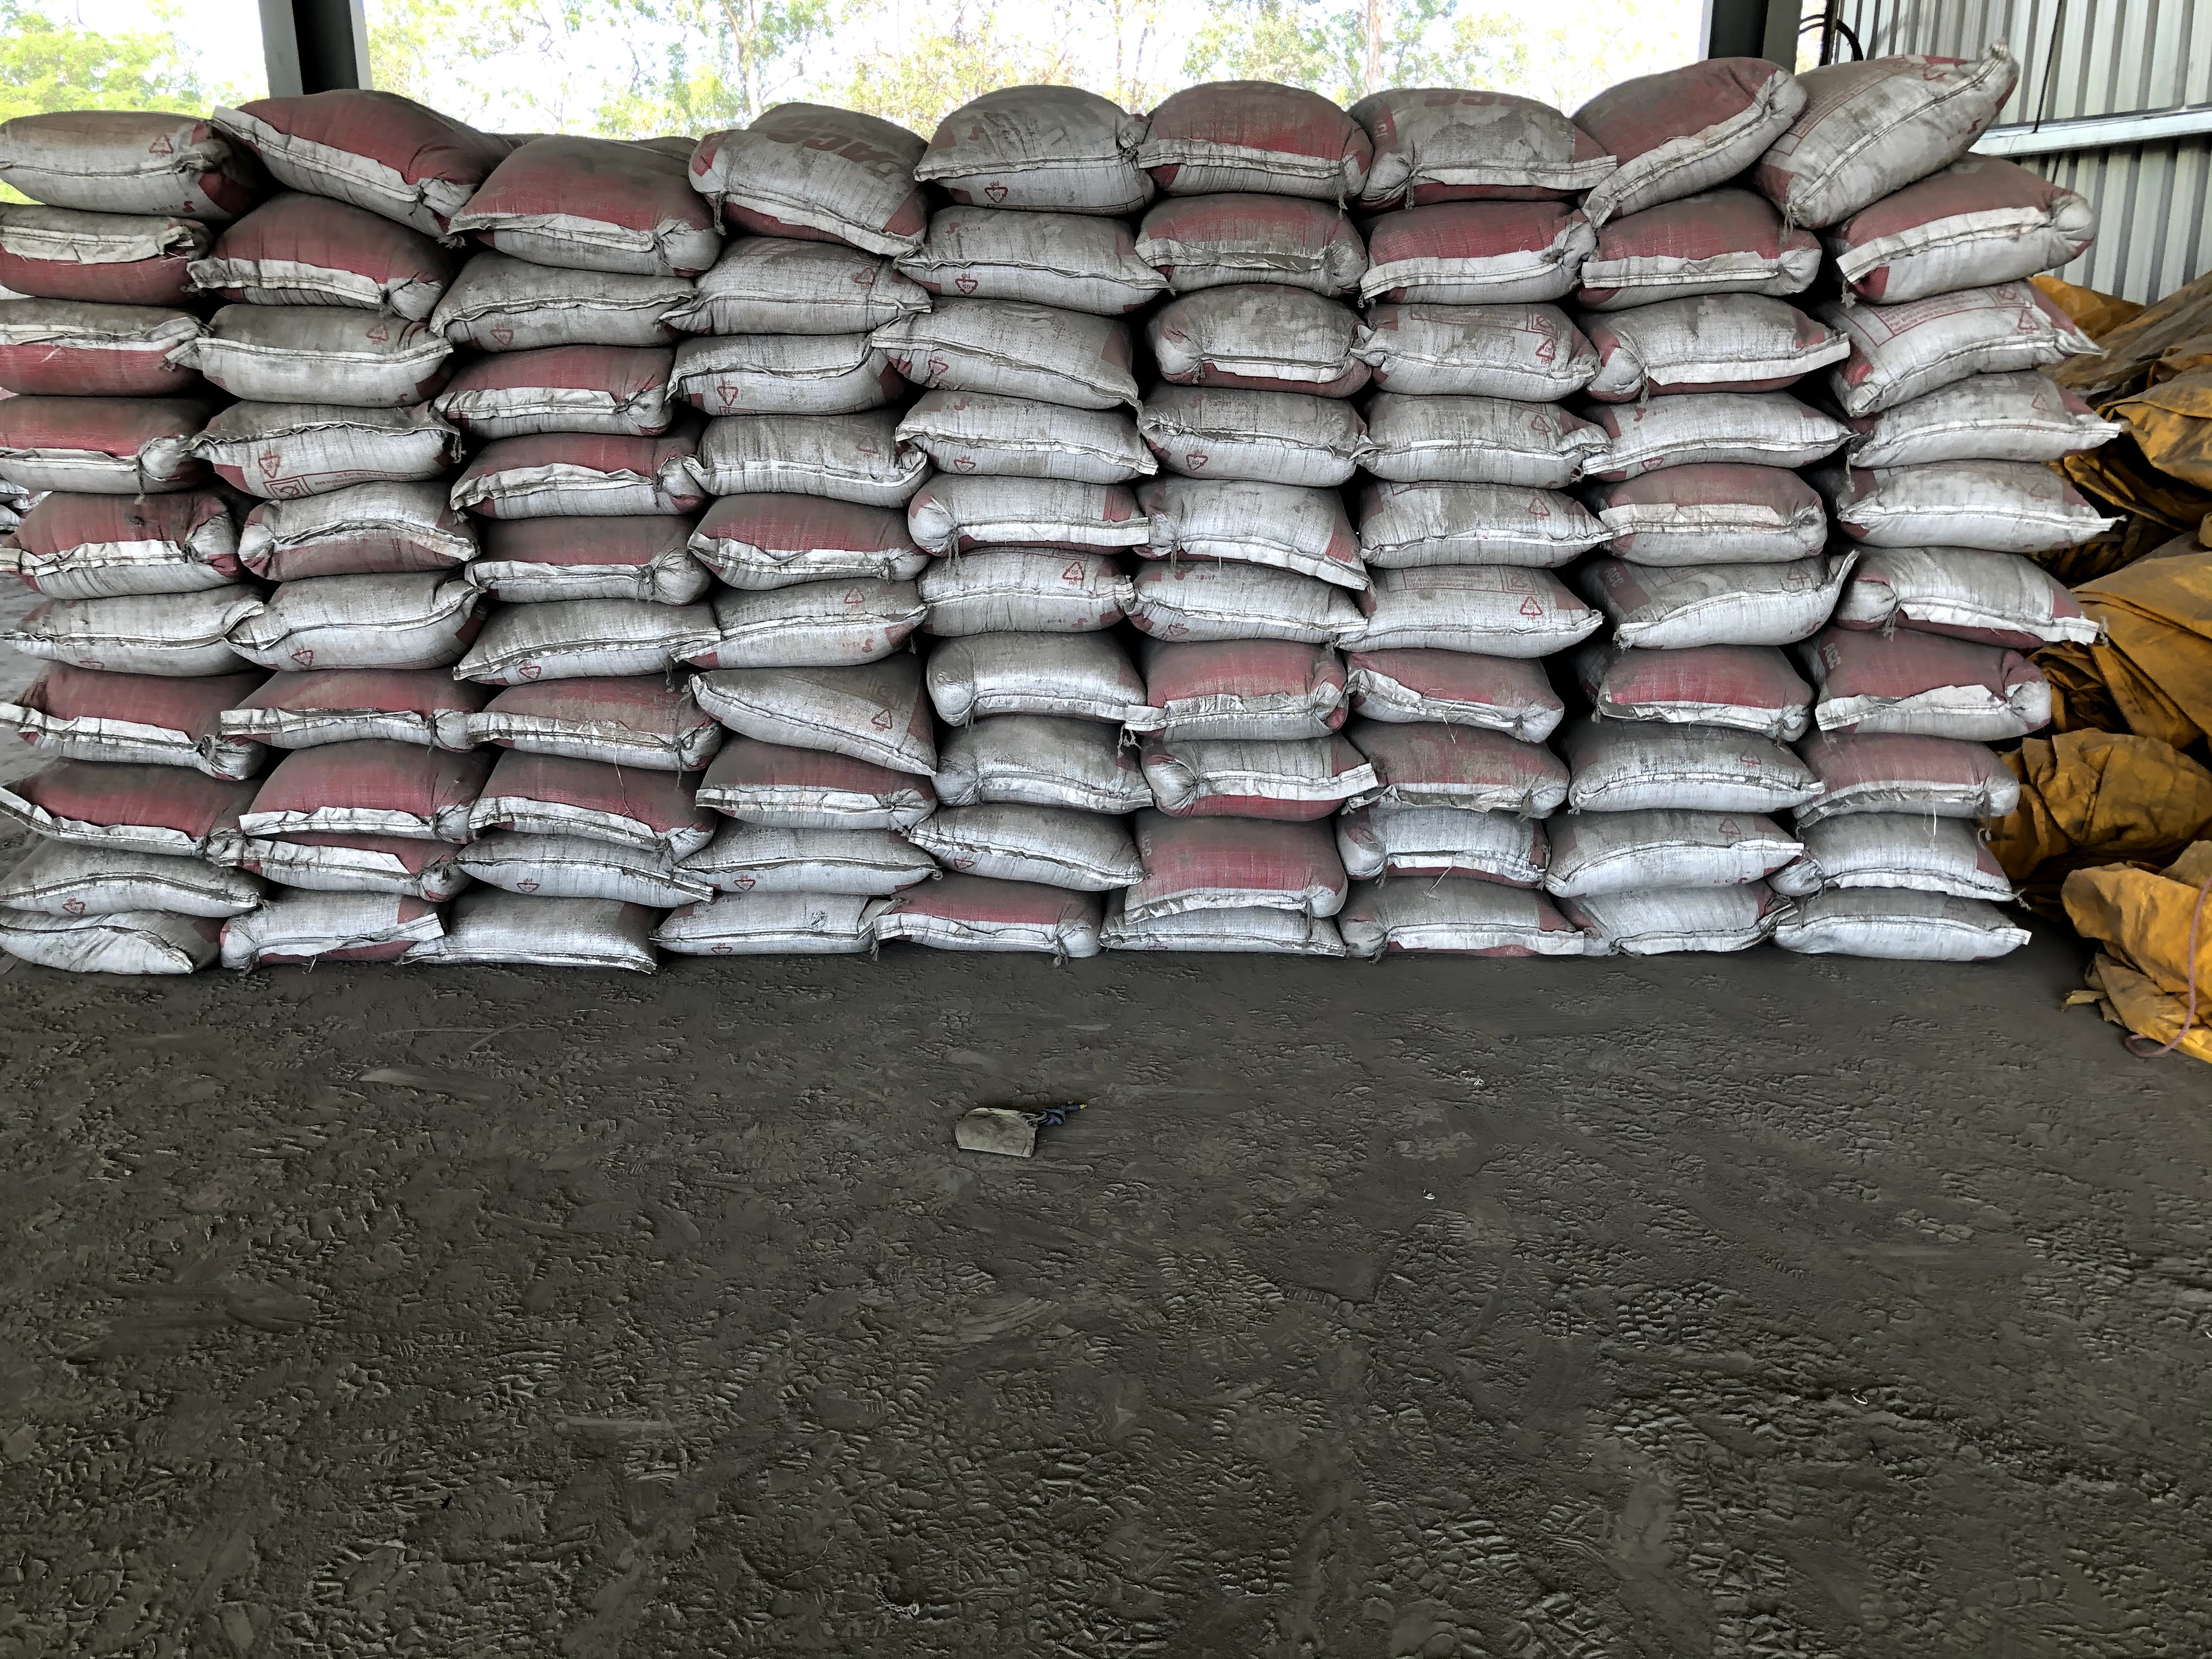cement bag: (1592, 63, 1804, 213), (1853, 545, 2114, 657), (913, 197, 1157, 315), (1804, 63, 2048, 178), (179, 329, 430, 441), (460, 150, 702, 265), (1864, 274, 2125, 380), (1815, 657, 2114, 742), (1143, 112, 1371, 220), (470, 584, 693, 694), (1371, 112, 1606, 211), (1838, 193, 2125, 274), (1357, 389, 1606, 479), (1623, 477, 1834, 584), (1592, 213, 1829, 307), (49, 657, 221, 786), (26, 570, 235, 676), (2, 202, 221, 303), (179, 239, 423, 329), (455, 265, 702, 354), (1864, 380, 2116, 465), (1115, 652, 1339, 748), (1376, 570, 1590, 669), (712, 181, 934, 277), (707, 683, 941, 774), (1853, 465, 2116, 545), (2, 106, 221, 202), (1357, 298, 1587, 389), (1376, 479, 1606, 570), (1623, 307, 1829, 408), (932, 542, 1143, 636), (2, 378, 169, 497), (1153, 310, 1357, 406), (254, 124, 423, 239), (1143, 220, 1357, 310), (451, 422, 671, 509), (1381, 207, 1587, 298), (714, 427, 923, 516), (26, 765, 218, 861), (172, 908, 421, 981), (1153, 406, 1343, 502), (1844, 836, 2057, 922), (484, 694, 704, 775), (650, 894, 895, 967), (1357, 795, 1559, 884), (1815, 742, 2024, 828), (707, 592, 904, 683), (732, 340, 923, 427), (251, 587, 465, 664), (1153, 565, 1339, 652), (934, 786, 1123, 871), (932, 636, 1129, 716), (254, 516, 465, 587), (251, 664, 446, 741), (1585, 732, 1810, 798), (704, 774, 941, 836), (1623, 408, 1834, 477), (937, 471, 1143, 542), (1143, 831, 1348, 903), (714, 516, 904, 592), (24, 502, 235, 570), (488, 516, 693, 584), (1115, 748, 1343, 809), (934, 716, 1129, 786), (937, 392, 1109, 471), (1792, 918, 2040, 972), (1357, 884, 1581, 943), (254, 441, 430, 516), (895, 871, 1123, 929), (1385, 669, 1590, 732), (942, 315, 1109, 392), (732, 277, 934, 340), (1623, 584, 1810, 652), (2, 303, 169, 378), (928, 143, 1157, 197), (1595, 652, 1810, 709), (469, 847, 665, 908), (1153, 502, 1343, 565), (251, 765, 451, 823), (5, 861, 218, 915), (1576, 828, 1806, 877), (5, 915, 172, 981), (704, 836, 895, 894), (1385, 732, 1559, 795), (469, 908, 650, 967), (503, 789, 665, 847), (460, 378, 671, 422), (1127, 918, 1343, 957), (235, 838, 404, 884), (1604, 903, 1752, 941), (470, 685, 482, 694)
